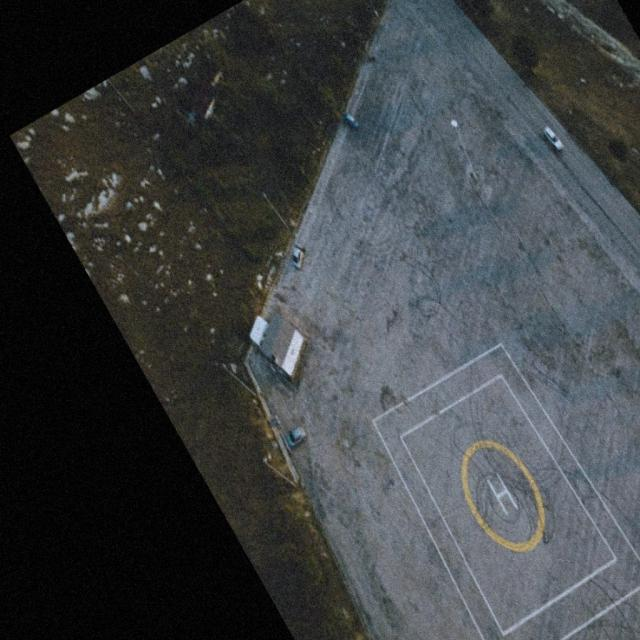helipad: (457, 434, 547, 555)
